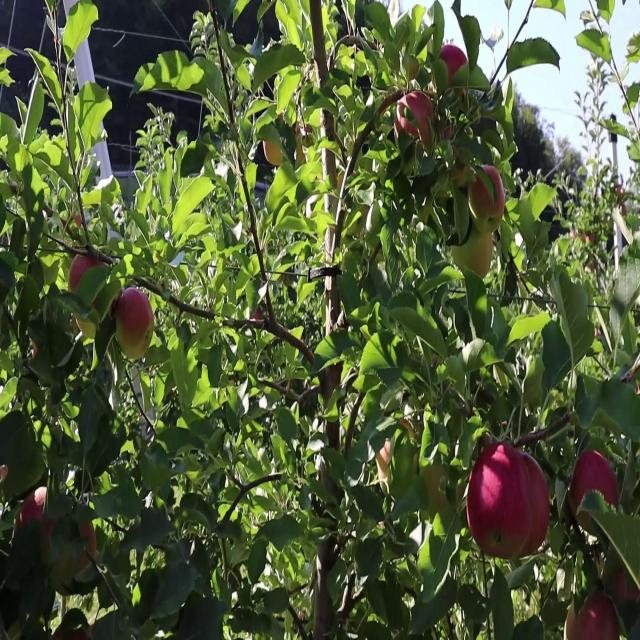apple: (464, 440, 552, 564), (572, 447, 621, 532), (576, 447, 621, 519), (116, 284, 155, 343), (472, 163, 507, 224), (396, 92, 437, 144), (444, 120, 473, 190), (460, 227, 496, 281), (584, 590, 619, 639), (440, 42, 468, 87), (116, 327, 150, 364), (68, 255, 98, 295), (20, 490, 48, 528), (376, 433, 397, 480), (440, 120, 463, 162), (616, 568, 640, 606), (80, 519, 97, 572), (568, 604, 590, 639), (452, 156, 473, 190), (376, 440, 394, 478), (264, 142, 284, 171)
